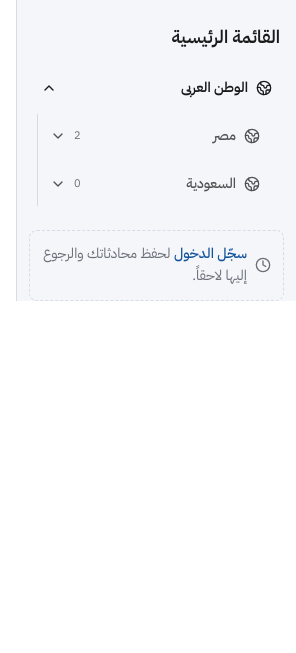
Test: MainSidebar › دولة بلا مراجع تعرض "ستُضاف قريباً"، وأحكام قضائية تبقى فارغة
This screenshot has width=296, height=653.
Click the button "مصر 2" at (155, 136), box left=38, top=114, right=272, bottom=158
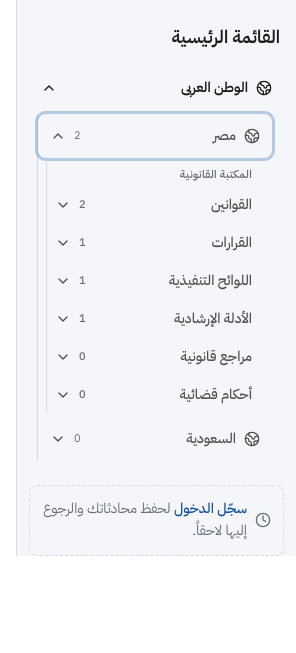
Click the button "مراجع قانونية 0" at (154, 357), box left=47, top=339, right=260, bottom=375
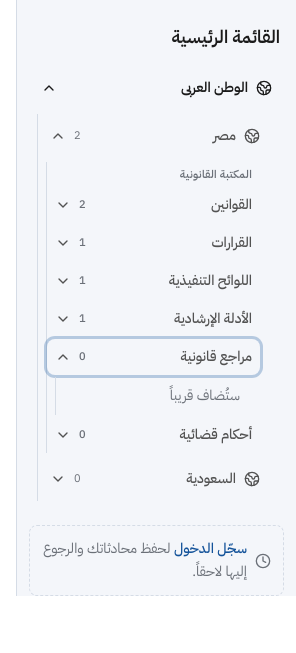
expect the text "ستُضاف قريباً" is shown: met, box left=170, top=385, right=240, bottom=406
Click the button "أحكام قضائية 0" at (154, 435), box left=47, top=417, right=260, bottom=453
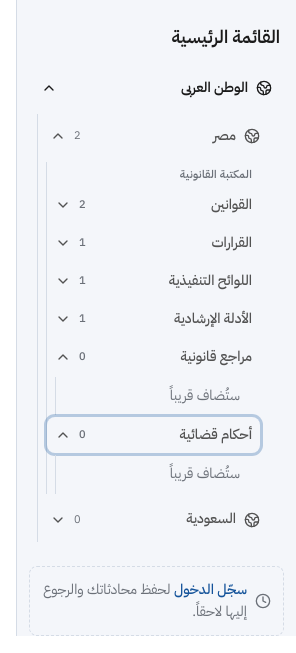
expect the text "ستُضاف قريباً" is shown 2 times: met, box left=170, top=385, right=240, bottom=406; left=170, top=463, right=240, bottom=484
